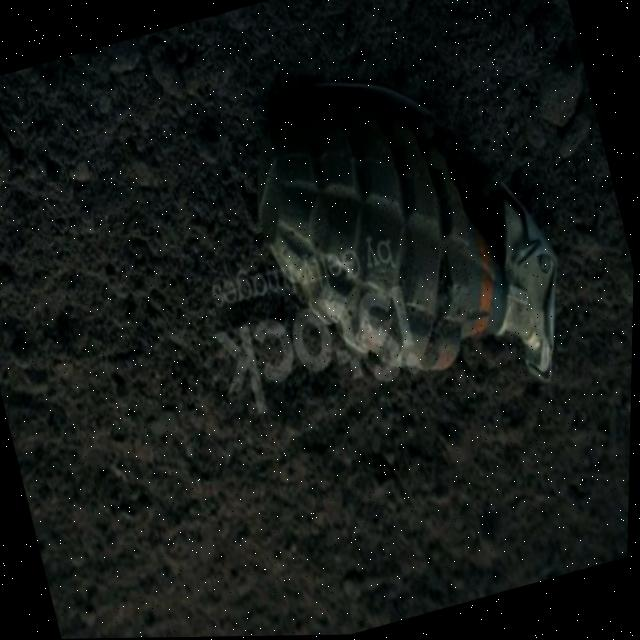grenade: (208, 0, 603, 457)
